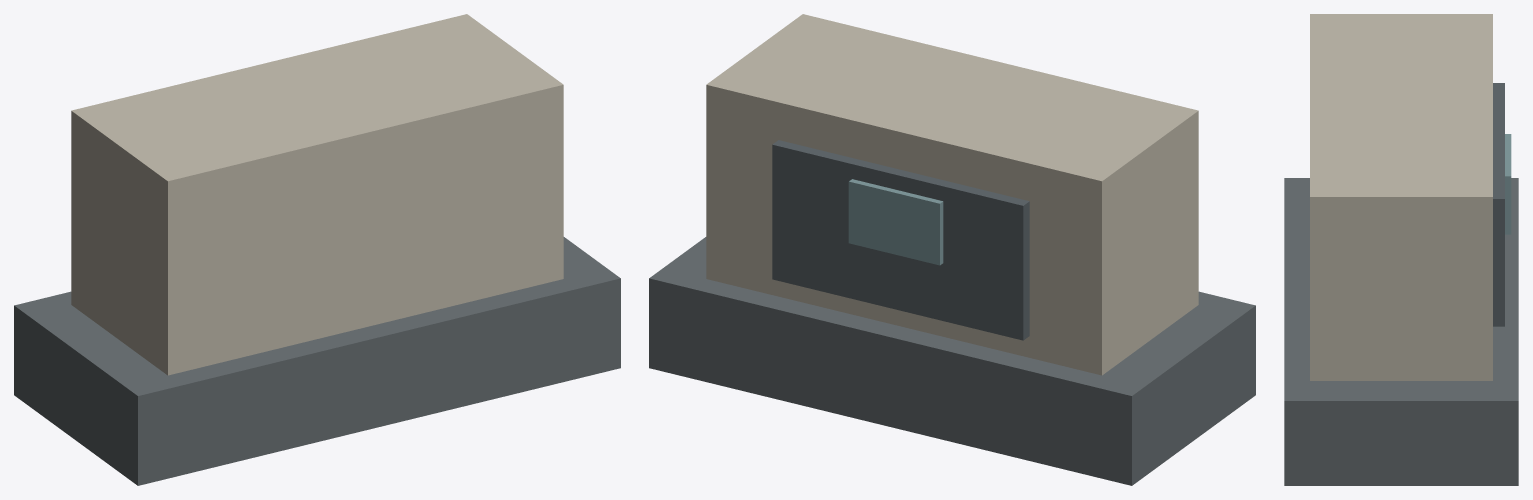
Rendered from iz3_production_workbench_01.glb.
3 views of the same model, side by side, from view 1: azimuth 30°, elevation 25°; view 2: azimuth 150°, elevation 25°; view 3: azimuth 270°, elevation 25° (orthographic). The views are drawn at different scales.
Parts seen in each view (by area): view 1: cabinet, base; view 2: cabinet, base, panel, display; view 3: cabinet, base, panel, display.
Boxes of the visible parts, x1,y1,x2,y2 form: cabinet: (71,14,563,375); base: (14,237,620,485); cabinet: (706,14,1198,375); base: (649,237,1255,485); panel: (772,140,1029,340); display: (848,179,943,265); cabinet: (1310,14,1492,380); base: (1284,178,1518,485); panel: (1493,83,1504,326); display: (1505,134,1511,234).
Size of the model in its own units: 1.8 by 1.01 by 0.8.
